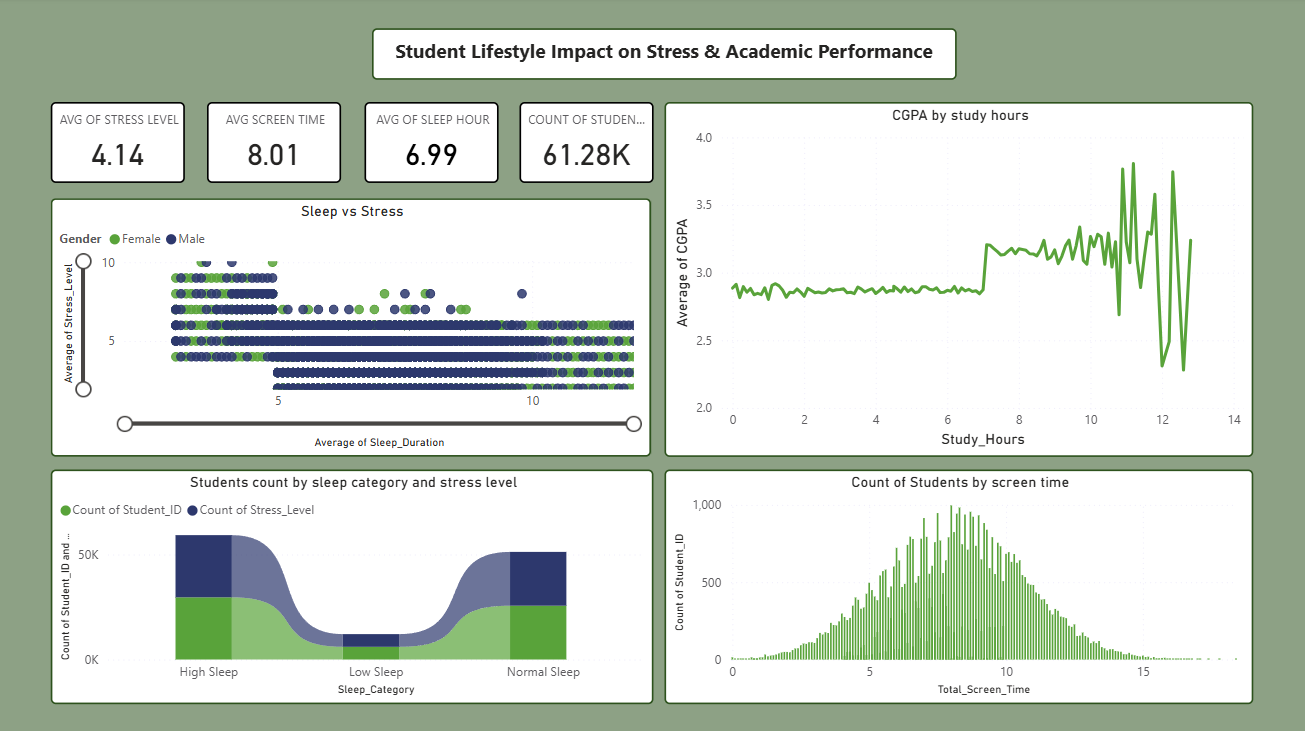

What the dashboard file says about the page in this screenshot:
{"tool":"powerbi","page":{"name":"Dashboard","canvas":[1280,720],"ordinal":0},"visuals":[{"type":"card","fields":{"Values":["Avg(Sheet1.Stress_Level)"]},"box":[52.8,102.7,130.8,79.5],"z":0},{"type":"card","fields":{"Values":["Avg(Sheet1.Sleep_Duration)"]},"box":[359.7,102.7,130.8,79.5],"z":1000},{"type":"card","fields":{"Values":["Avg(Sheet1.Total_Screen_Time)"]},"box":[205.7,102.7,130.8,79.5],"z":2000},{"type":"textbox","box":[366.8,30.6,572.3,50.1],"z":3000},{"type":"card","fields":{"Values":["CountNonNull(Sheet1.Student_ID)"]},"box":[511.4,102.7,130.8,79.5],"z":4000},{"type":"ribbonChart","title":"Students count by sleep category and stress level","fields":{"Category":["Sheet1.Sleep_Category"],"Y":["CountNonNull(Sheet1.Student_ID)","CountNonNull(Sheet1.Stress_Level)"]},"box":[52.8,462.2,589.4,229.9],"z":5000},{"type":"scatterChart","title":"Sleep vs Stress","fields":{"X":["Avg(Sheet1.Sleep_Duration)"],"Y":["Avg(Sheet1.Stress_Level)"],"Series":["Sheet1.Gender"],"Category":["Sheet1.Student_ID"]},"box":[52.6,196.9,587,253.1],"z":6000},{"type":"lineChart","title":"CGPA by study hours","fields":{"Category":["Sheet1.Study_Hours"],"Y":["Avg(Sheet1.CGPA)"]},"box":[653,102.7,576,347.3],"z":7000},{"type":"clusteredColumnChart","title":"Count of Students by screen time","fields":{"Y":["CountNonNull(Sheet1.Student_ID)"],"Category":["Sheet1.Total_Screen_Time"]},"box":[653,462.2,576,229.9],"z":8000}]}

Visuals, with their boxes in screenshot pixels (x1, y1, x2, y2), scaled from the page's 1280x720 canvas onto the 1305x731 screenshot:
card - Avg(Sheet1.Stress_Level): pyautogui.locateOnScreen(54, 104, 187, 185)
card - Avg(Sheet1.Sleep_Duration): pyautogui.locateOnScreen(367, 104, 500, 185)
card - Avg(Sheet1.Total_Screen_Time): pyautogui.locateOnScreen(210, 104, 343, 185)
textbox: pyautogui.locateOnScreen(374, 31, 957, 82)
card - CountNonNull(Sheet1.Student_ID): pyautogui.locateOnScreen(521, 104, 655, 185)
"Students count by sleep category and stress level" ribbonChart: pyautogui.locateOnScreen(54, 469, 655, 703)
"Sleep vs Stress" scatterChart: pyautogui.locateOnScreen(54, 200, 652, 457)
"CGPA by study hours" lineChart: pyautogui.locateOnScreen(666, 104, 1253, 457)
"Count of Students by screen time" clusteredColumnChart: pyautogui.locateOnScreen(666, 469, 1253, 703)
